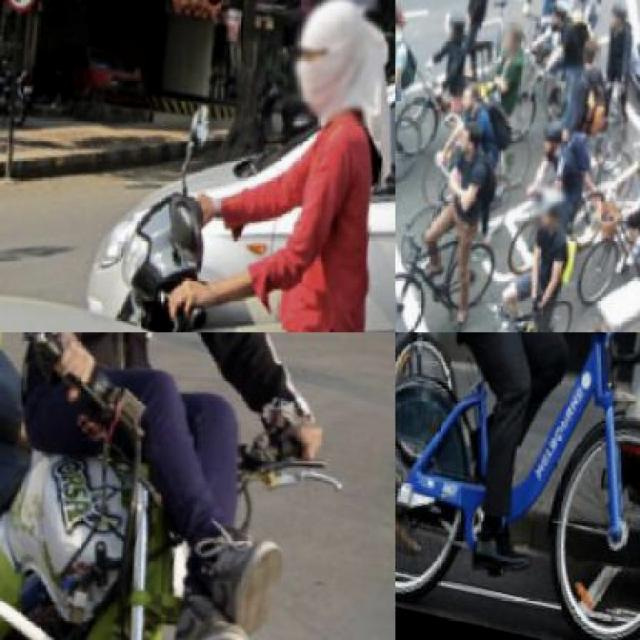With Helmet: (274, 0, 394, 131), (520, 179, 569, 236), (528, 113, 568, 165), (603, 0, 629, 35), (442, 8, 466, 44)
Without Helmet: (442, 117, 486, 161), (493, 20, 524, 63)
